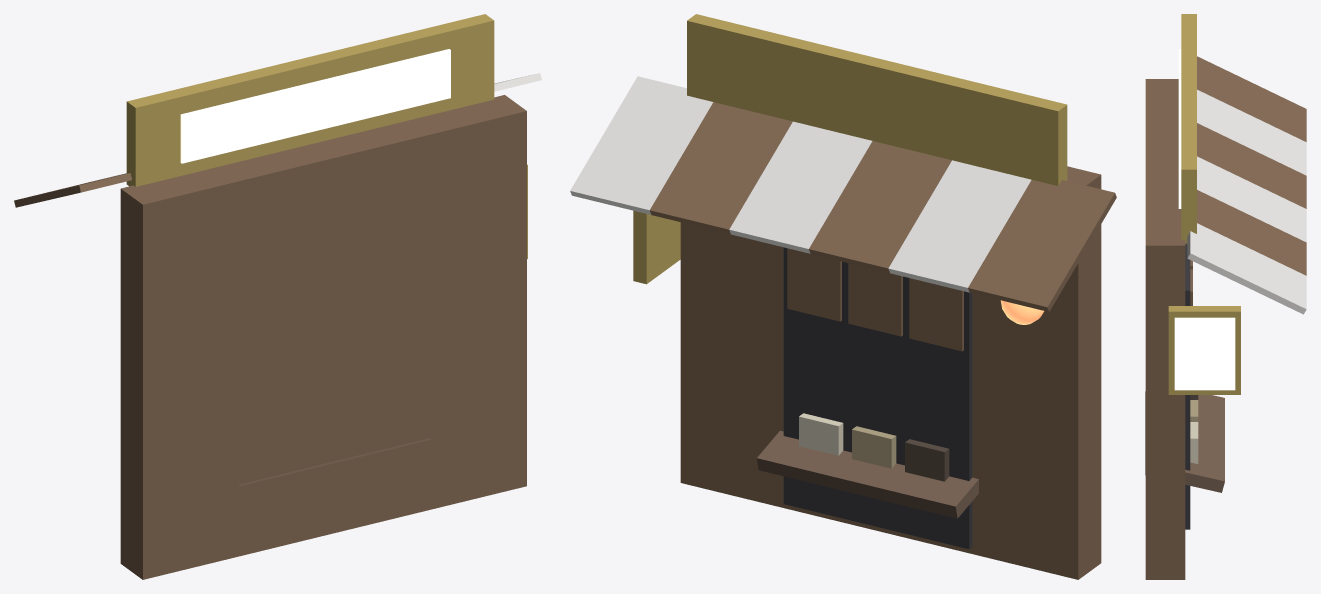
File: prop_mise_kissa.glb
3 renders of one model, left to right at view 1: azimuth 30°, elevation 25°; view 2: azimuth 150°, elevation 25°; view 3: azimuth 270°, elevation 25°, orthographic. The views are drawn at different scales.
Parts seen in each view (by area): view 1: mise_kissa; view 2: mise_kissa; view 3: mise_kissa.
Boxes of the visible parts, <box> form: mise_kissa: <box>14,14,541,579</box>; mise_kissa: <box>570,14,1116,579</box>; mise_kissa: <box>1145,14,1306,579</box>.
Bounding box in the file's own units: 3.6 × 3.39 × 1.23.
